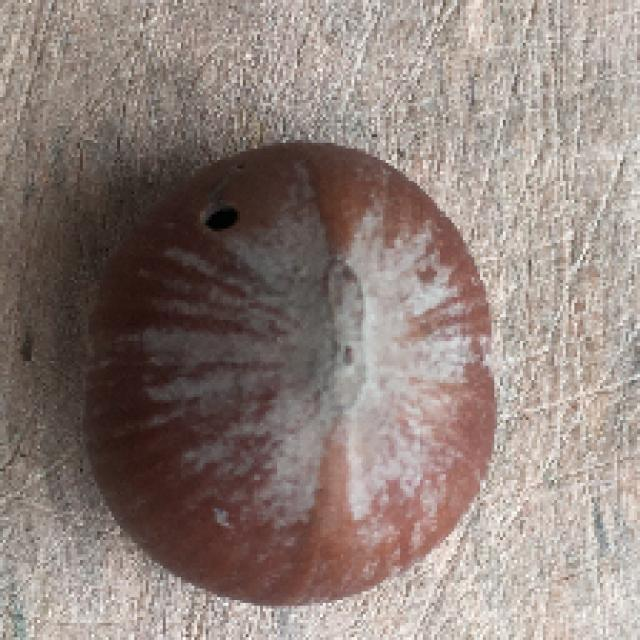damagedHazelnut: (82, 138, 504, 607)
